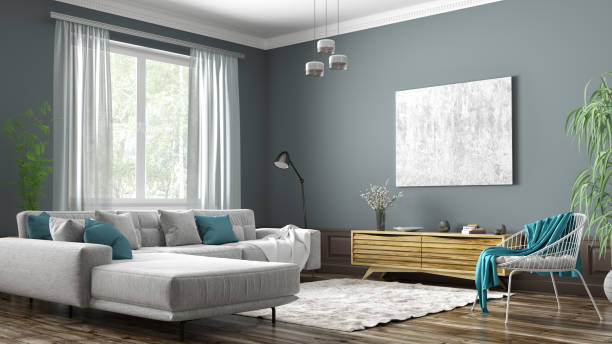chair: (469, 211, 604, 324)
floor lamp: (271, 147, 309, 228)
flower vase: (359, 177, 402, 231)
large plant: (571, 77, 612, 303), (5, 98, 60, 208)
sofa: (0, 207, 324, 320)
wall art: (391, 76, 515, 188)
